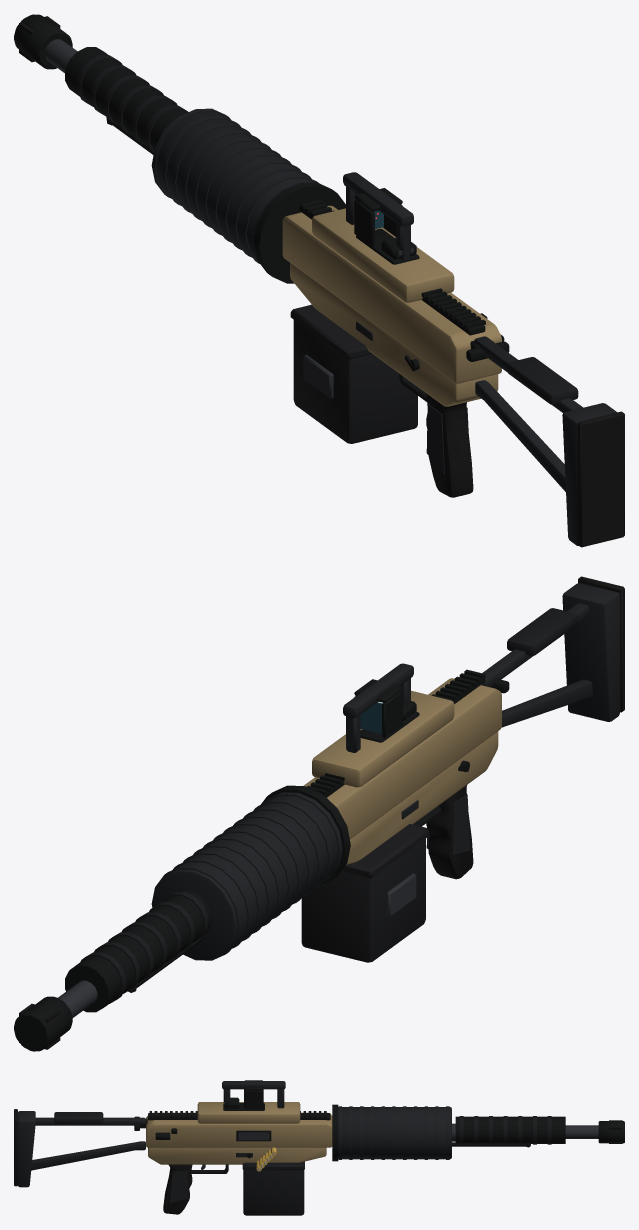
The model's file is gun_34.glb.
3 renders of one model, top to bottom at view 1: azimuth 30°, elevation 25°; view 2: azimuth 150°, elevation 25°; view 3: azimuth 270°, elevation 25°, orthographic. The views are drawn at different scales.
Parts seen in each view (by area): view 1: gun_34; view 2: gun_34; view 3: gun_34.
Part boxes in pixels (x1,y1,x2,y2): gun_34: [14, 14, 624, 547]; gun_34: [14, 576, 624, 1051]; gun_34: [14, 1080, 624, 1215].
Size of the model in its own units: 0.1219 by 0.2943 by 1.25.
